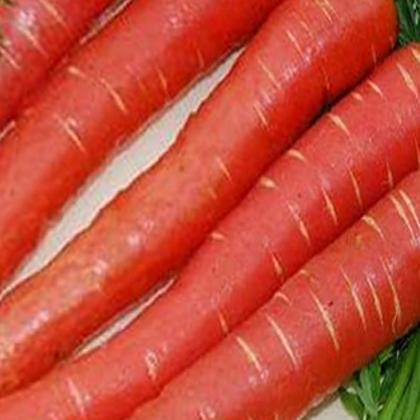carrot: (4, 28, 355, 395)
